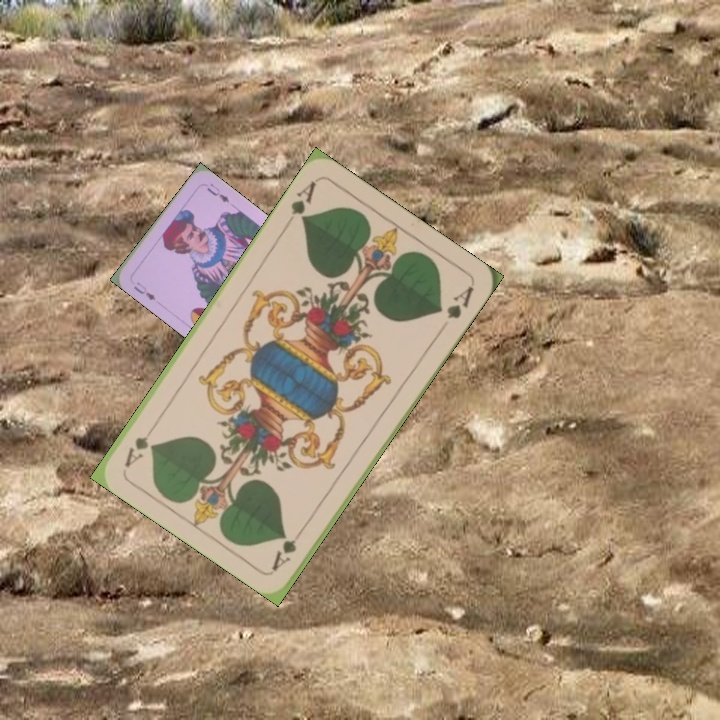EU: (130, 278, 158, 303)
GA: (268, 521, 308, 573), (281, 176, 319, 230)
